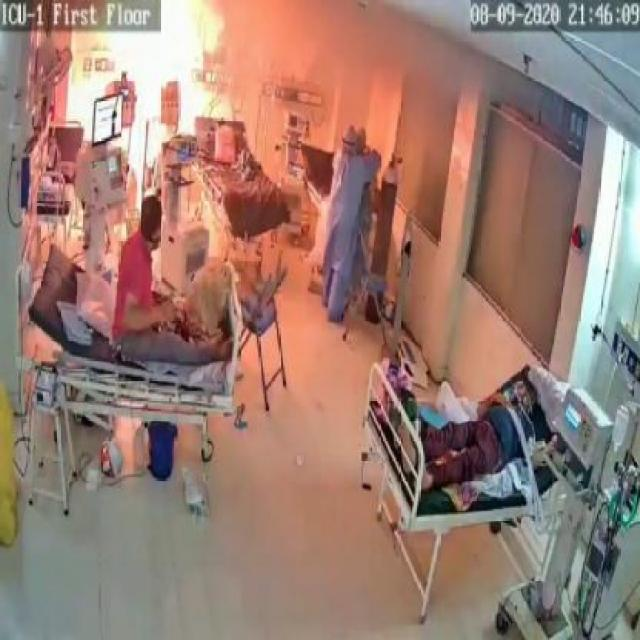fire: (107, 2, 230, 175)
smoke: (296, 2, 521, 132)
